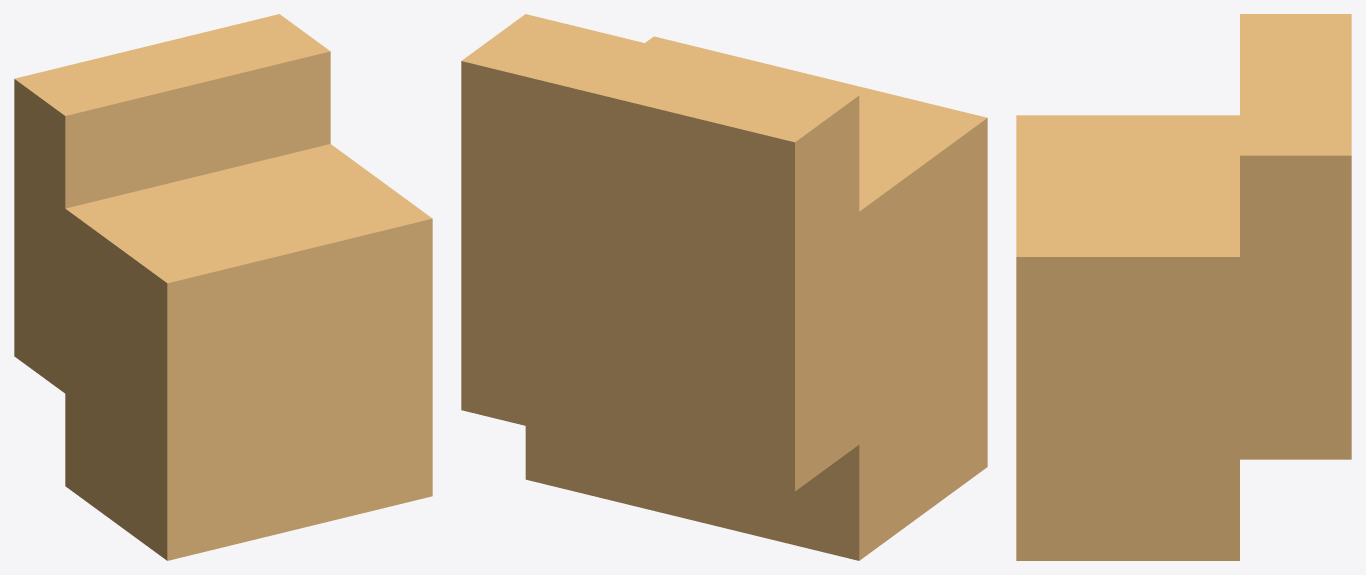
Rendered from Hero_Head.dae.
The picture shows the model from 3 angles, left to right: view 1: azimuth 30°, elevation 25°; view 2: azimuth 150°, elevation 25°; view 3: azimuth 270°, elevation 25°; orthographic projection. The views are drawn at different scales.
Parts seen in each view (by area): view 1: Hero_Head; view 2: Hero_Head; view 3: Hero_Head.
Part boxes in pixels (x1=…): Hero_Head: x1=14, y1=14, x2=432, y2=560; Hero_Head: x1=461, y1=14, x2=987, y2=560; Hero_Head: x1=1016, y1=14, x2=1351, y2=560.
Bounding box in the file's own units: 0.3 × 0.4 × 0.3.
1 material, 1 textured.
